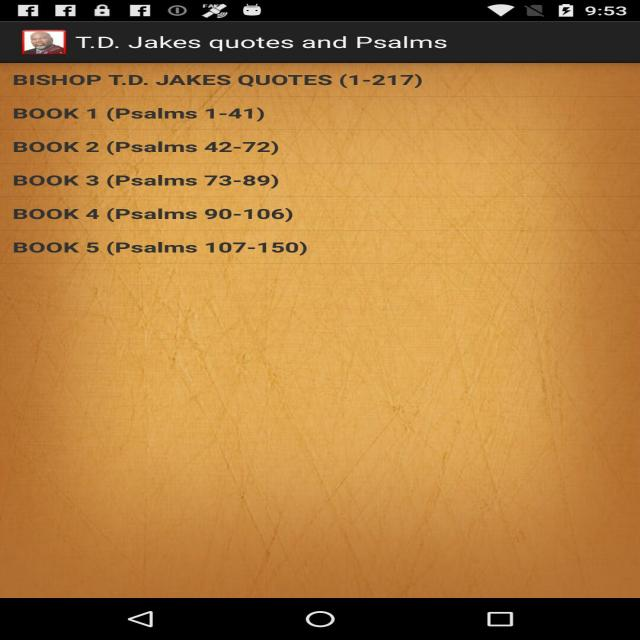image: (13, 27, 70, 59)
text: (14, 68, 437, 96), (70, 31, 464, 56), (2, 170, 309, 198), (18, 235, 329, 262), (9, 206, 336, 228), (1, 134, 286, 158), (4, 102, 280, 125)
